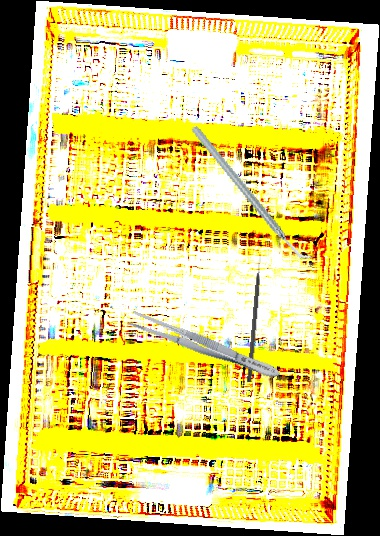Chopper: (190, 105, 315, 283)
Dressing Forceps: (125, 307, 284, 385)
Hook Surgical: (246, 255, 265, 383)
